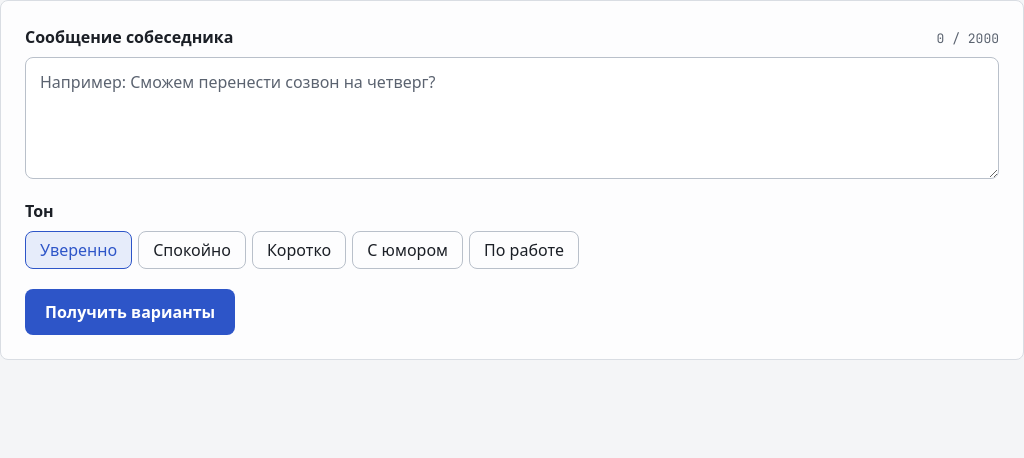
Test case: ReplyTool › после смены тона предлагает обновить варианты
In the text box: (512,118) top-left (25, 57), bottom-right (999, 179), type "Привет, как дела?"
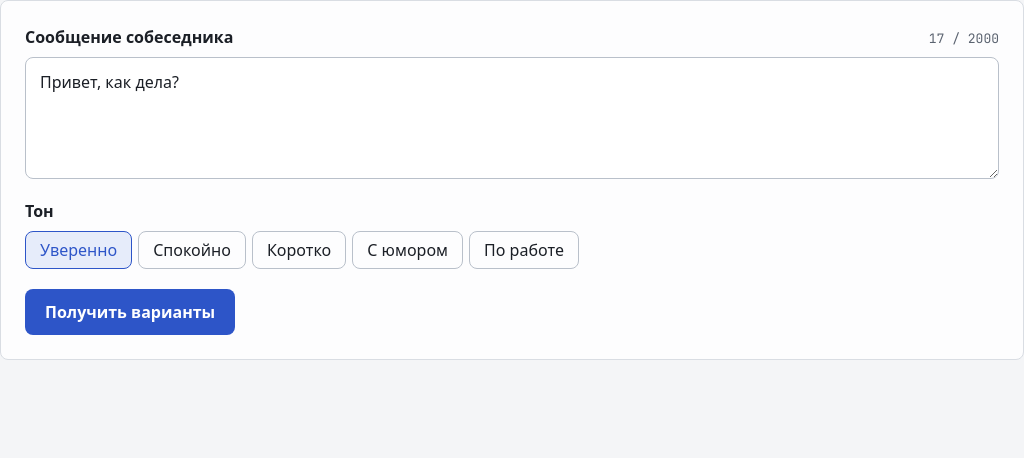
Click the button "Получить варианты": (130,312) top-left (25, 289), bottom-right (235, 335)
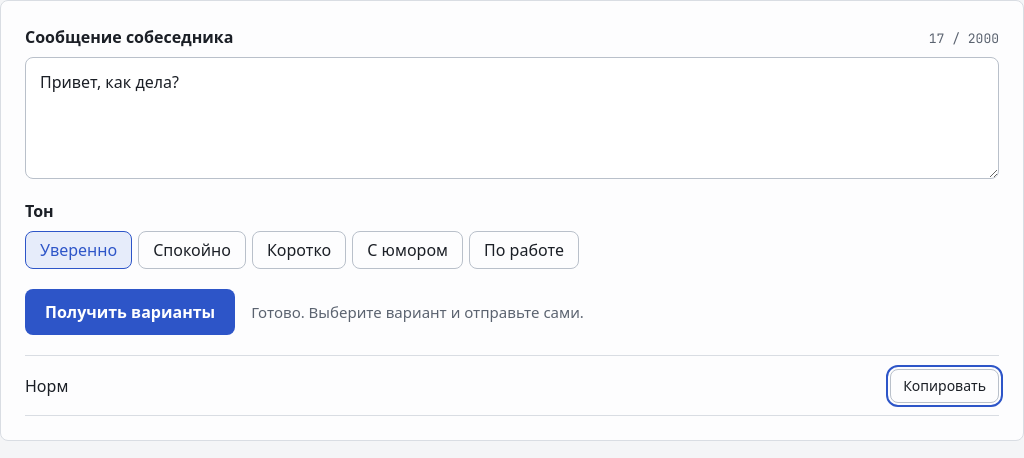
Click the radio button labelled "Коротко": (299,250) top-left (252, 231), bottom-right (346, 269)
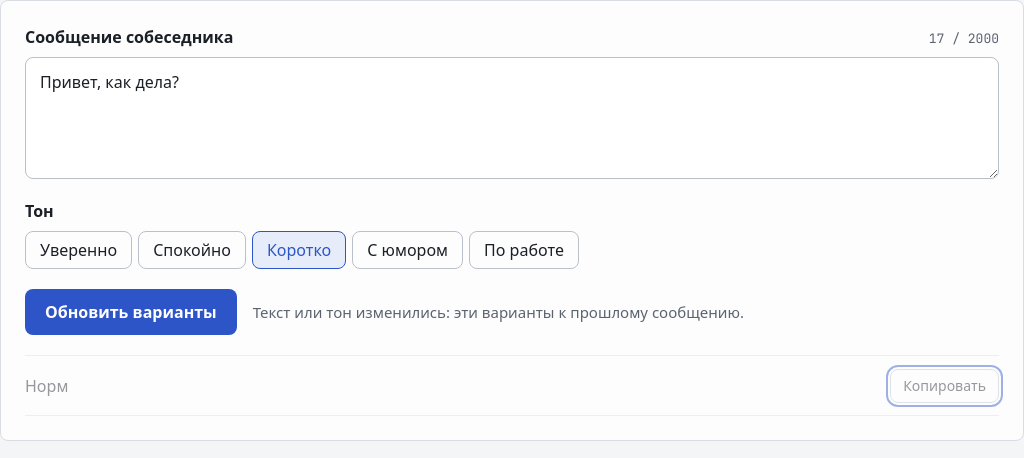
Result: the button "Обновить варианты" is shown at top-left (25, 289), bottom-right (237, 335)
Result: the message shows "к прошлому сообщению" at top-left (253, 302), bottom-right (744, 322)
